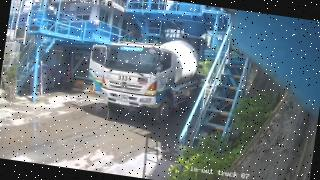cement_mixer_truck: (89, 40, 204, 123)
